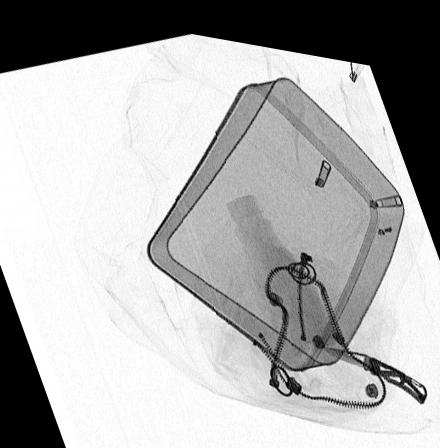Knife: (318, 333, 426, 389)
